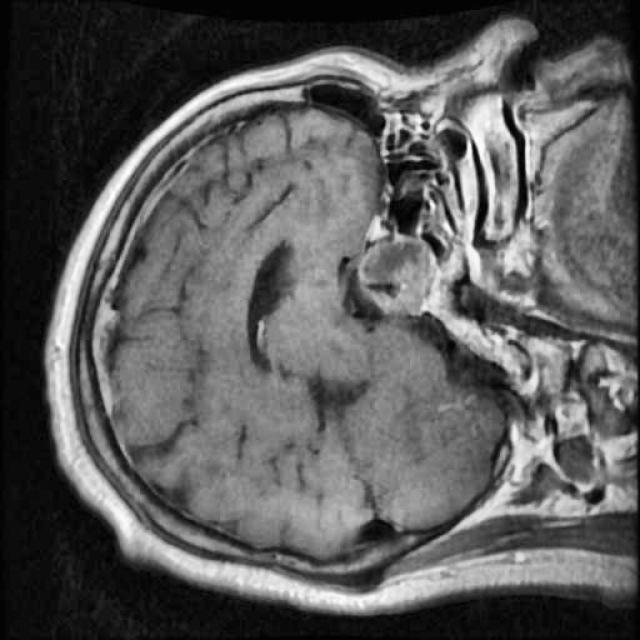Tumor: (332, 214, 474, 335)
